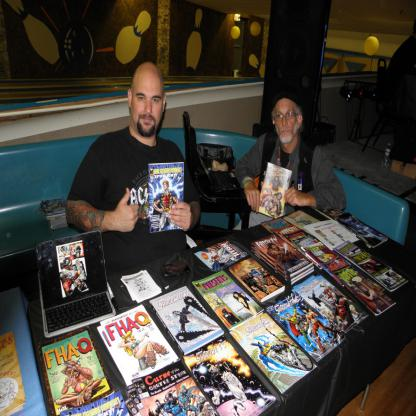book: (30, 326, 109, 411)
